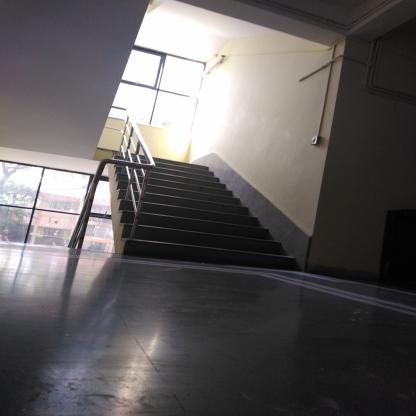stairs: (159, 165, 208, 263)
